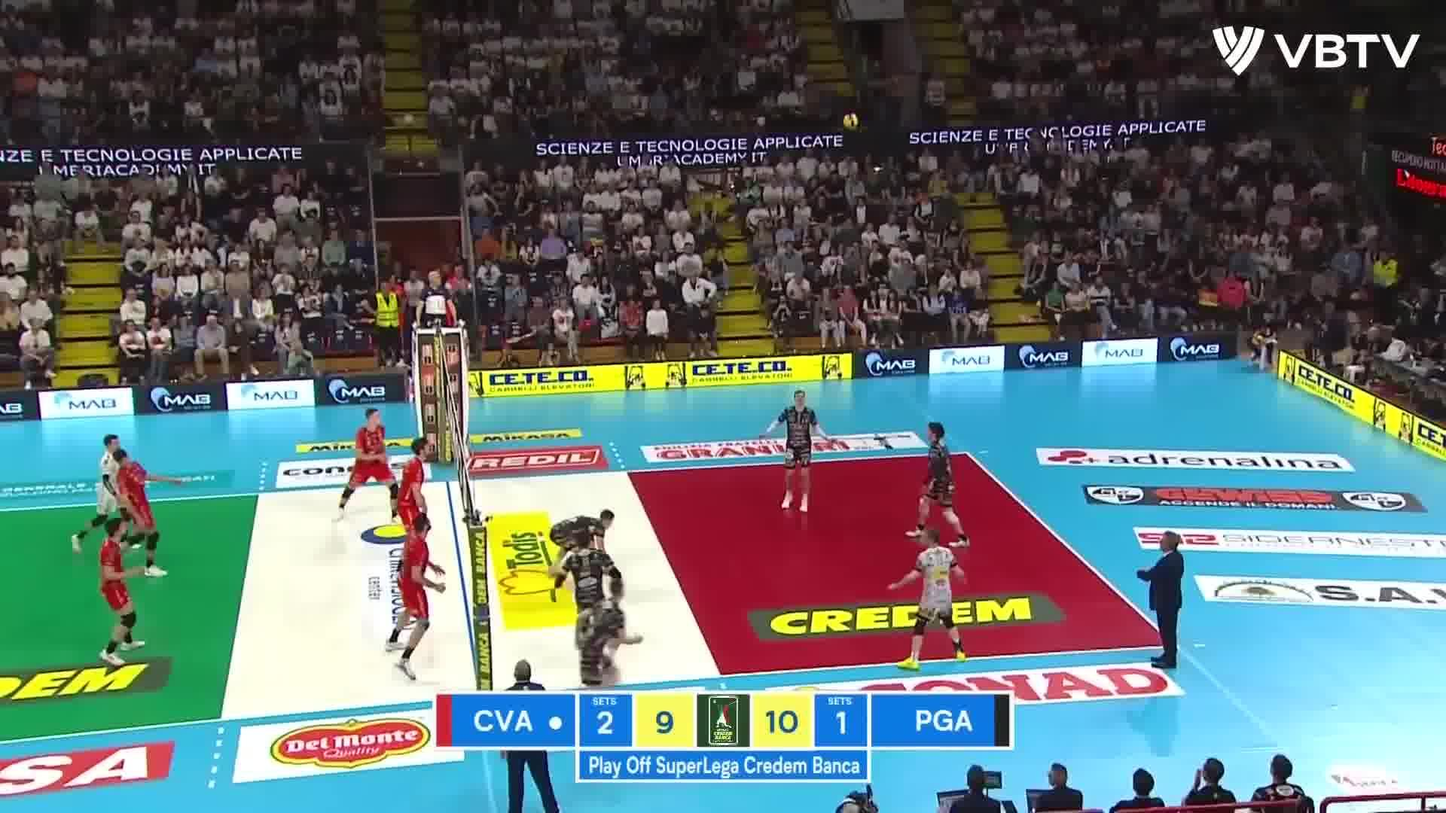balls: (840, 110, 863, 133)
